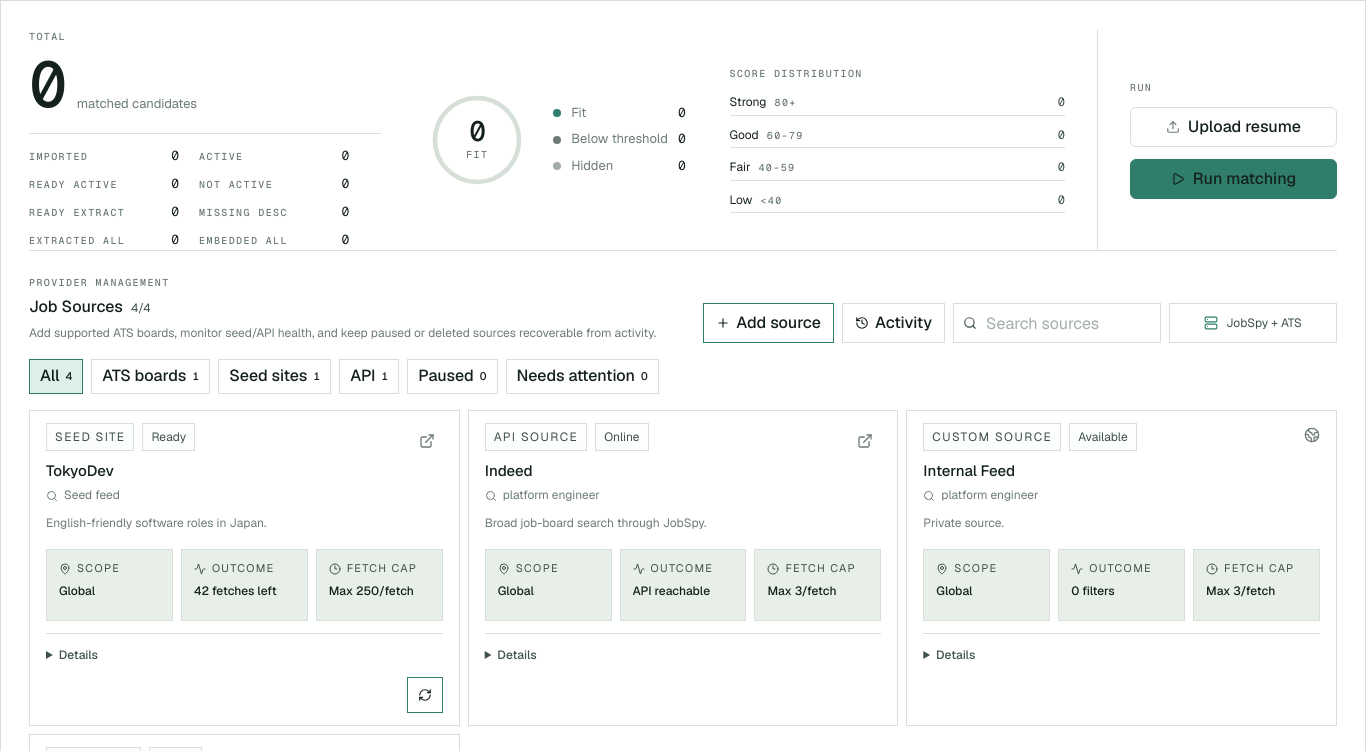
it: DashboardControls › stats and status › shows discovery empty and error states without creating a source
expect the heading "TokyoDev" is shown: met, box [46,461,114,480]
Click the button "Add source". click: (769, 323)
box: [703,303,834,343]
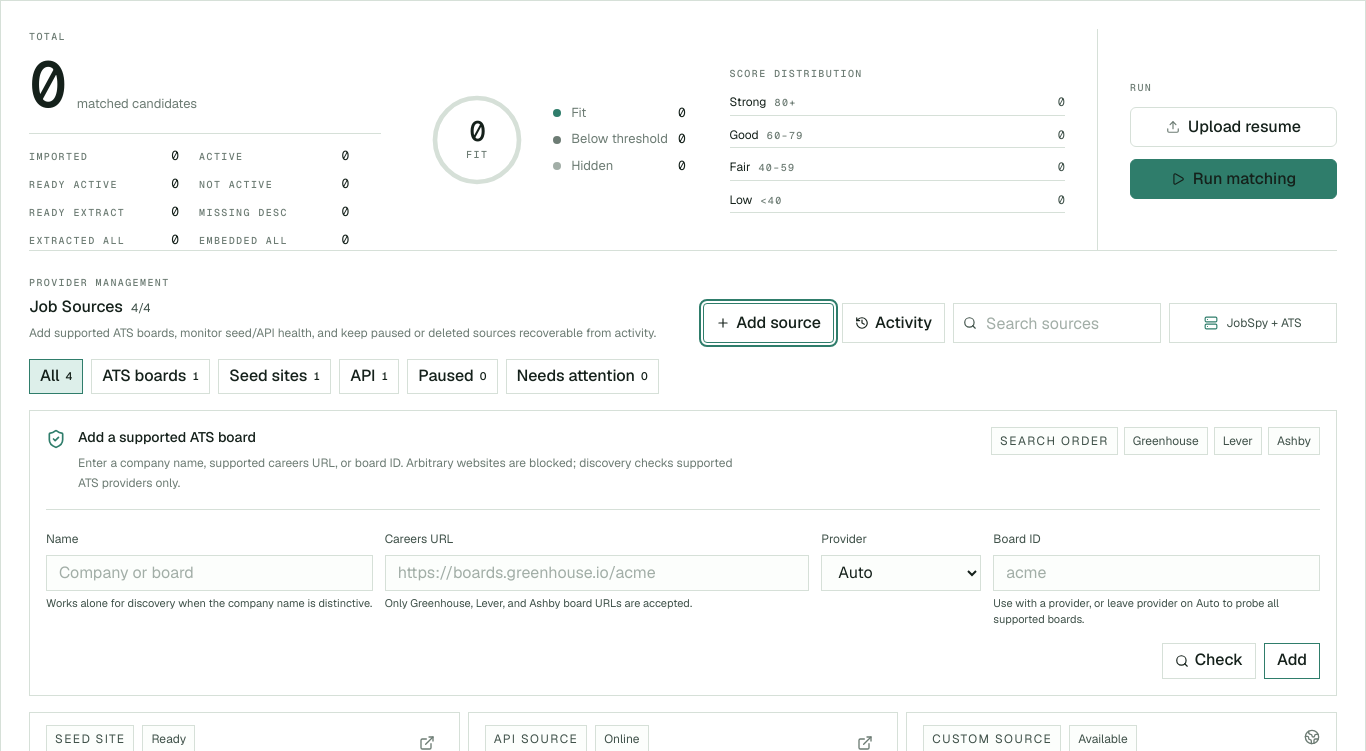
Type "Missing Board" into the field labelled "Name". click: (209, 573)
box: [46,555,373,591]
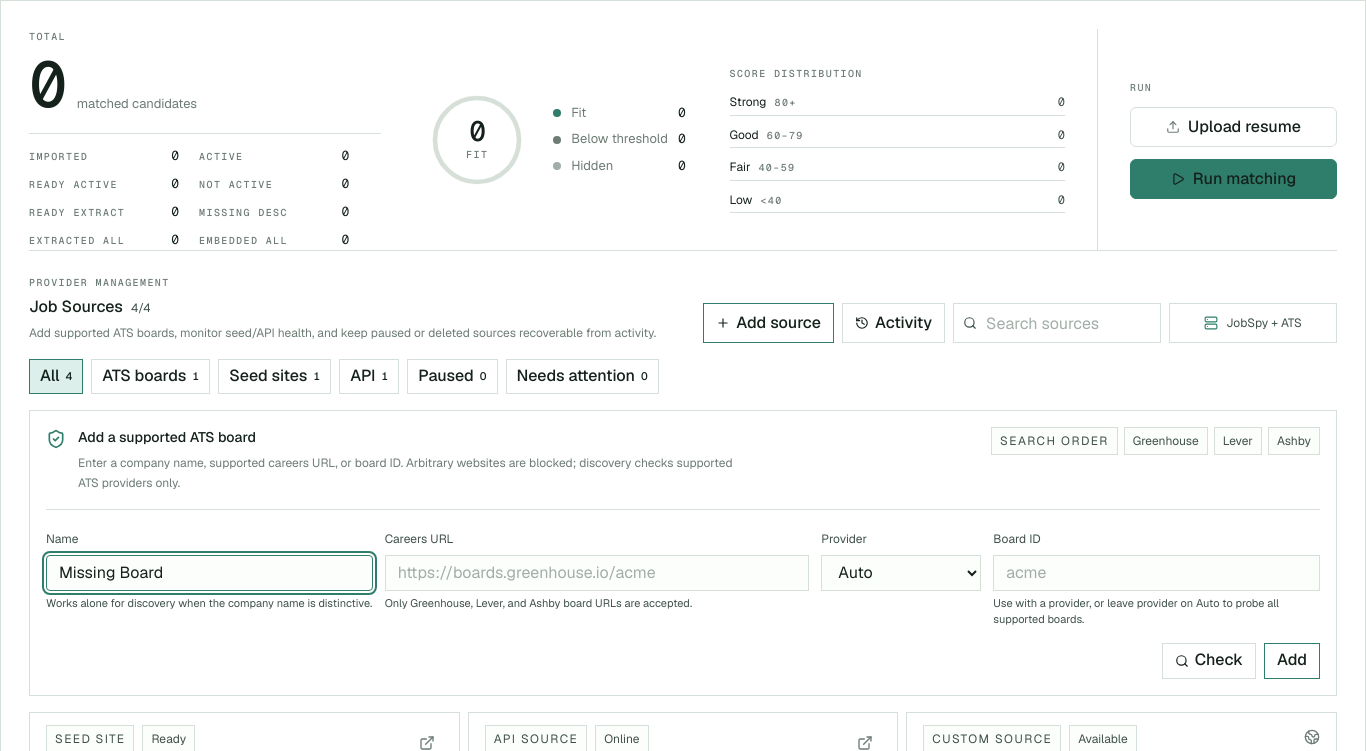
Click the button "Check". click: (1209, 661)
box: [1162,643,1256,679]
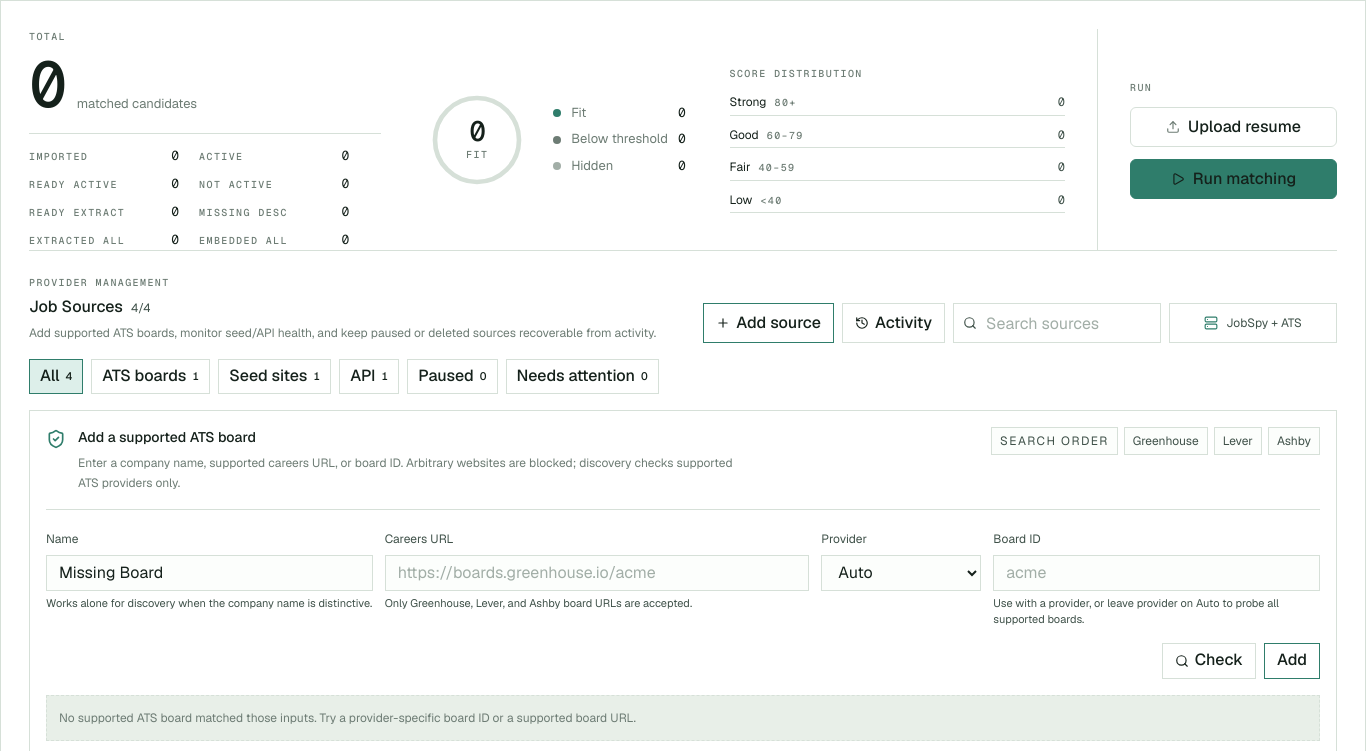
expect the text "No supported ATS board matched" is shown: met, box [59,710,636,726]
Type "retry" into the field labelled "Board ID". click: (1157, 573)
box: [993,555,1320,591]
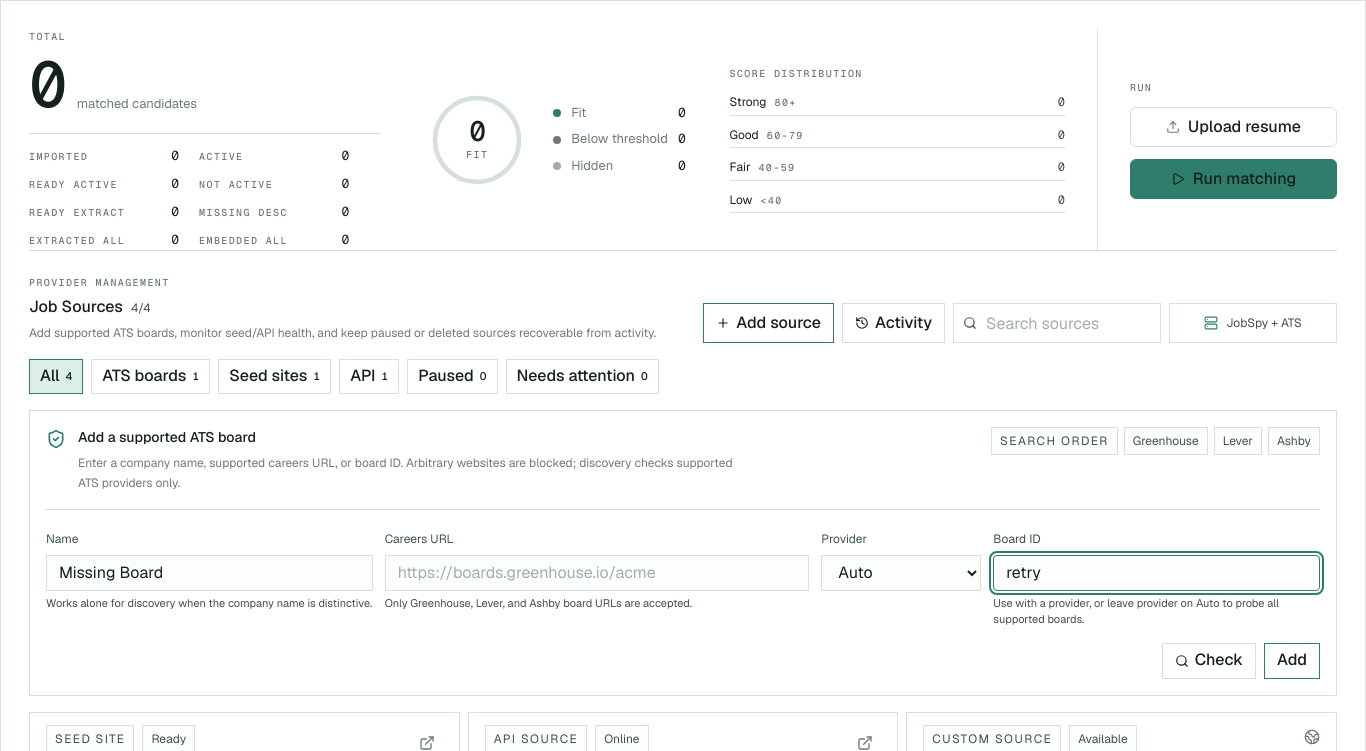
Click the button "Check". click: (1209, 661)
box: [1162,643,1256,679]
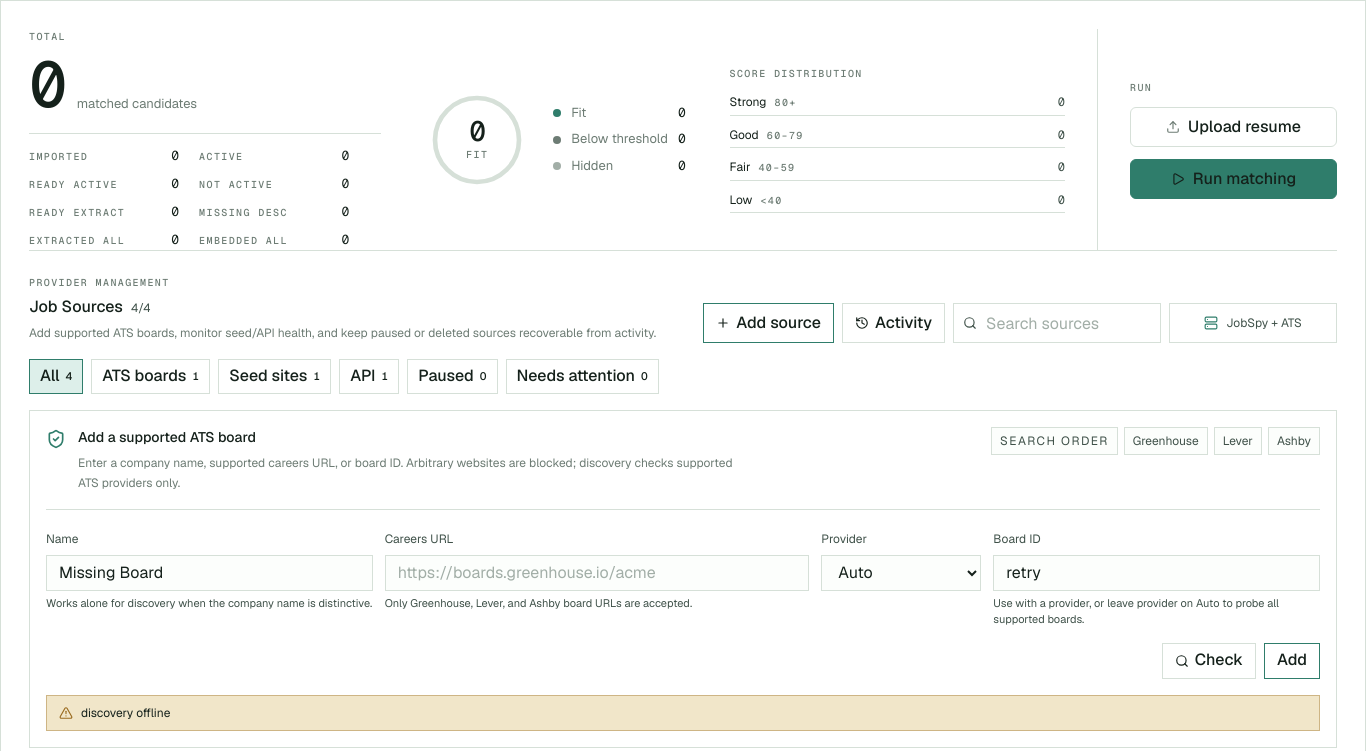
expect the text "discovery offline" is shown: met, box [81,704,170,722]
